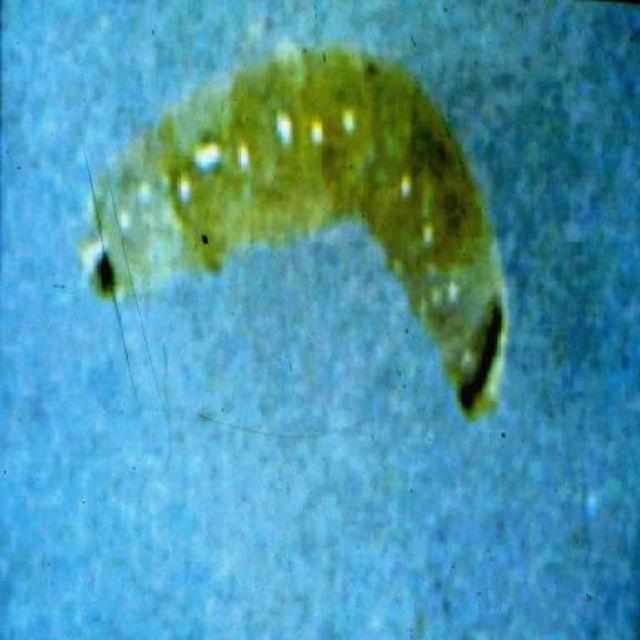whorl-maggot: (82, 34, 510, 422)
